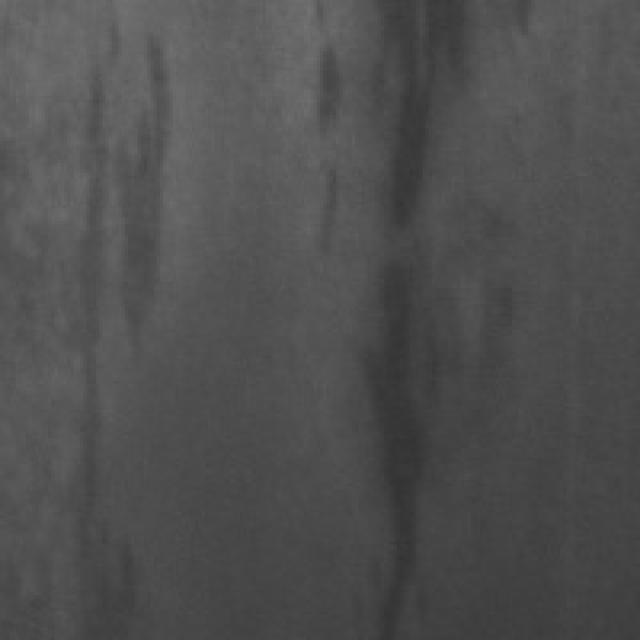inclusion: (29, 16, 166, 602), (348, 0, 458, 637), (291, 29, 362, 272)
